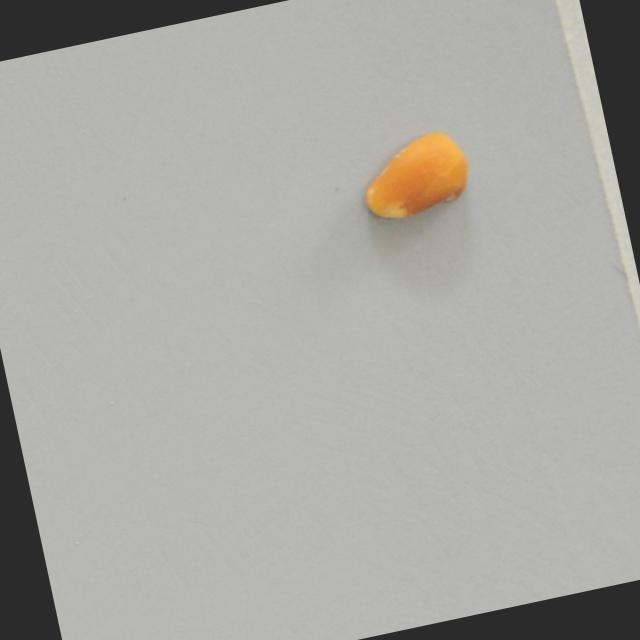dañado: (346, 123, 484, 232)
